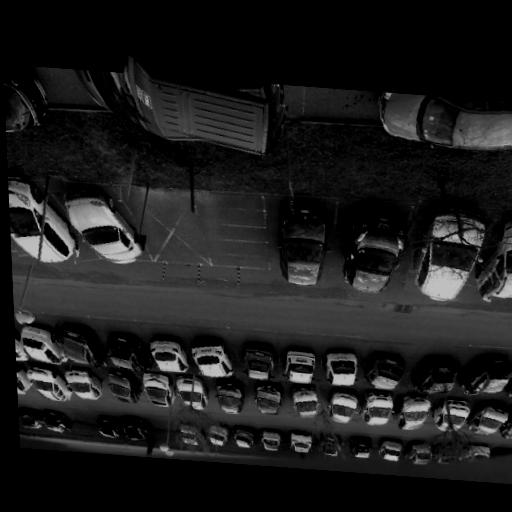busy: (115, 63, 288, 155), (404, 197, 503, 309), (381, 90, 512, 155), (339, 210, 420, 301), (60, 185, 141, 269), (8, 173, 75, 267), (276, 202, 339, 290), (6, 67, 51, 134), (459, 351, 512, 400), (51, 322, 107, 366), (363, 349, 413, 394), (484, 221, 512, 301), (413, 354, 465, 397), (187, 337, 236, 382), (18, 322, 66, 364), (105, 332, 152, 373), (322, 347, 367, 388), (467, 396, 512, 437), (393, 391, 439, 431), (238, 342, 281, 382), (62, 363, 106, 402), (146, 335, 191, 373), (25, 364, 71, 401), (101, 367, 145, 404), (359, 391, 401, 429), (287, 382, 328, 419), (281, 348, 320, 385), (249, 379, 289, 415), (210, 378, 250, 414), (436, 398, 476, 433), (325, 389, 363, 425), (137, 371, 176, 406), (176, 374, 212, 410), (120, 415, 154, 443), (38, 409, 74, 434), (376, 437, 408, 463), (405, 439, 437, 465), (175, 420, 207, 446), (433, 438, 465, 464), (289, 429, 319, 453), (96, 415, 126, 439), (231, 426, 260, 450), (317, 432, 344, 457), (206, 424, 233, 448), (348, 435, 376, 458), (258, 428, 286, 451), (463, 443, 496, 462), (18, 408, 45, 430), (16, 363, 33, 394), (507, 405, 512, 438), (509, 361, 512, 397)
free: (74, 412, 101, 430)
